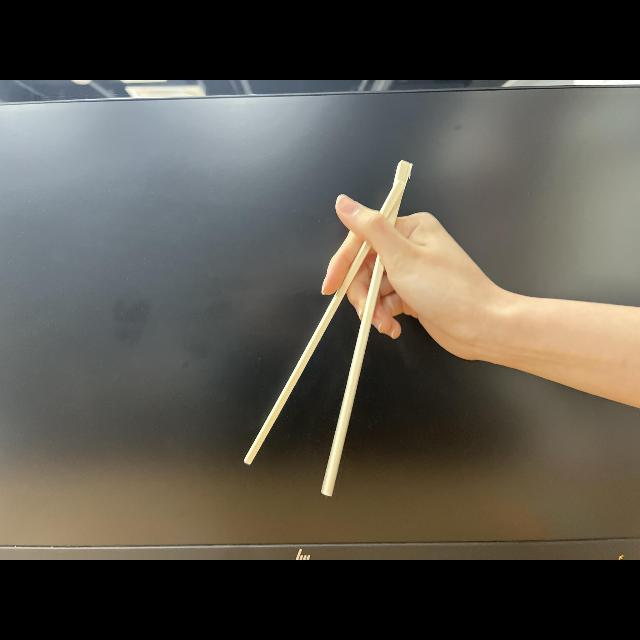stick: (245, 161, 498, 497)
